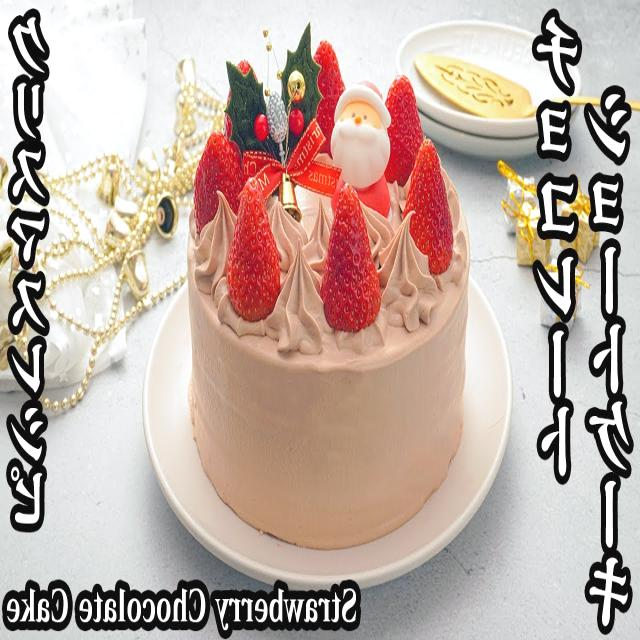chocolatecake: (185, 50, 475, 563)
